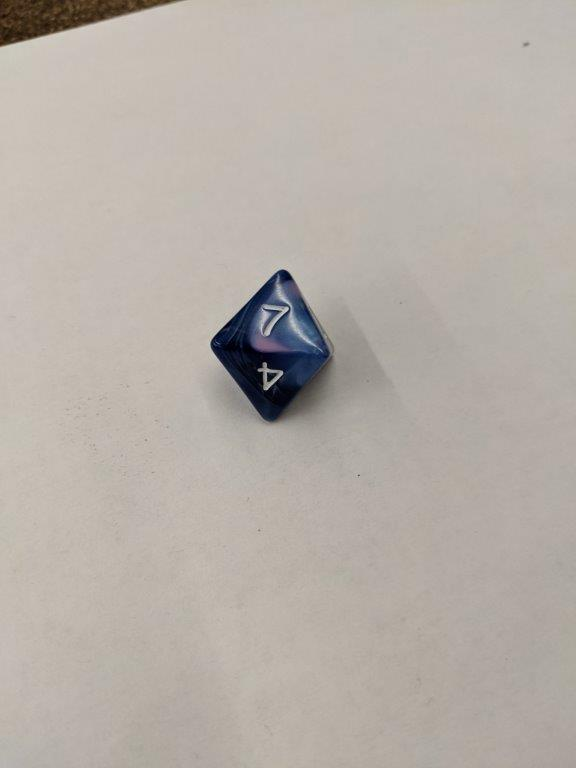d8-7: (209, 266, 334, 426)
